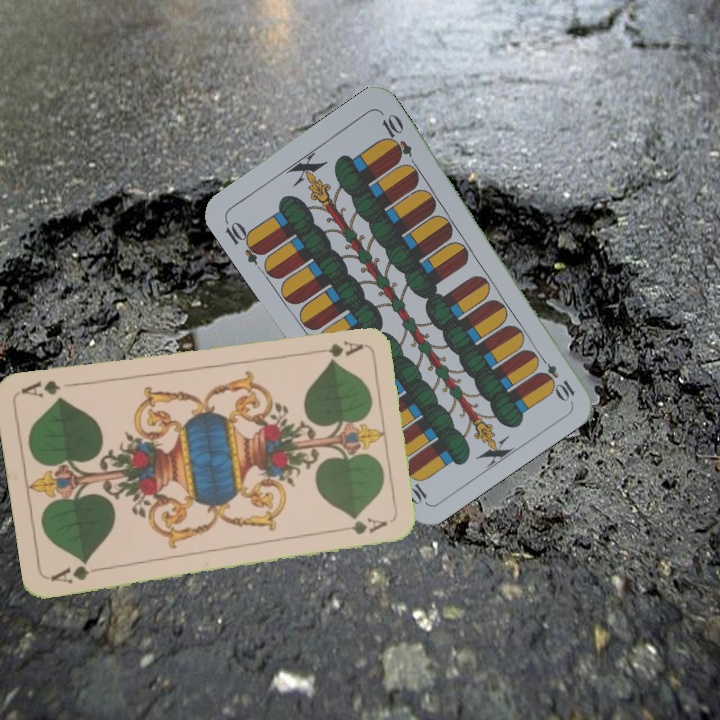E10: (220, 215, 268, 267), (533, 350, 578, 403)
GA: (47, 557, 105, 587), (305, 337, 365, 358)
